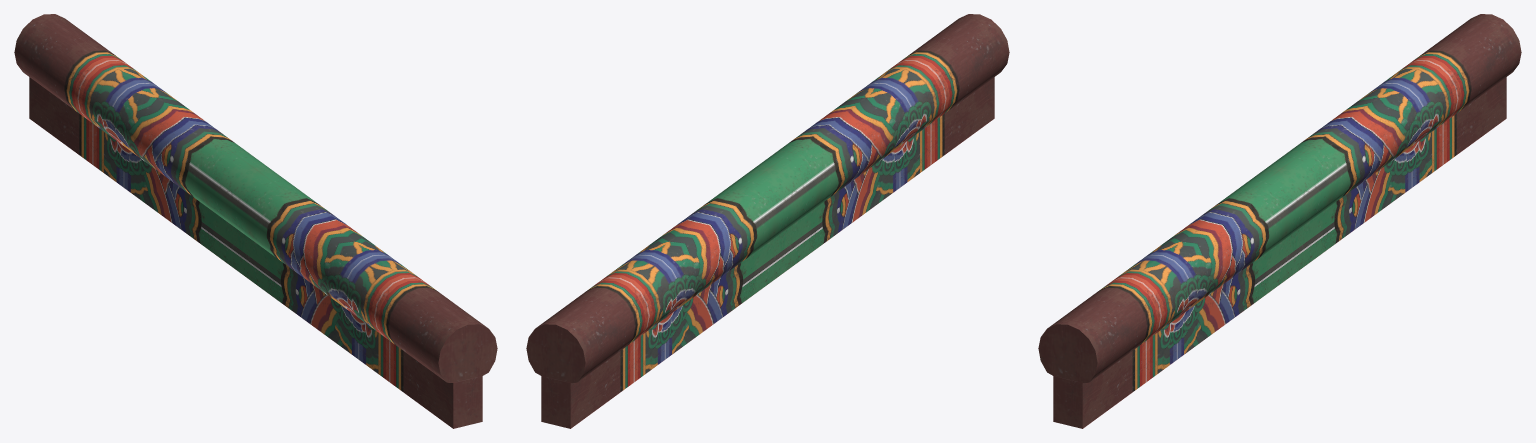
The model's file is SM_Purlin01g.fbx.
3 views of the same model, side by side, from view 1: azimuth 30°, elevation 25°; view 2: azimuth 150°, elevation 25°; view 3: azimuth 330°, elevation 25° (orthographic).
Visible parts, largest first — view 1: SM_Purlin01g; view 2: SM_Purlin01g; view 3: SM_Purlin01g.
Boxes of the visible parts, x1,y1,x2,y2 form: SM_Purlin01g: (14,14,497,428); SM_Purlin01g: (526,14,1009,428); SM_Purlin01g: (1038,14,1521,428).
Size of the model in its own units: 20.15 by 250 by 32.73.
Materials: 1 (1 with a texture image).
